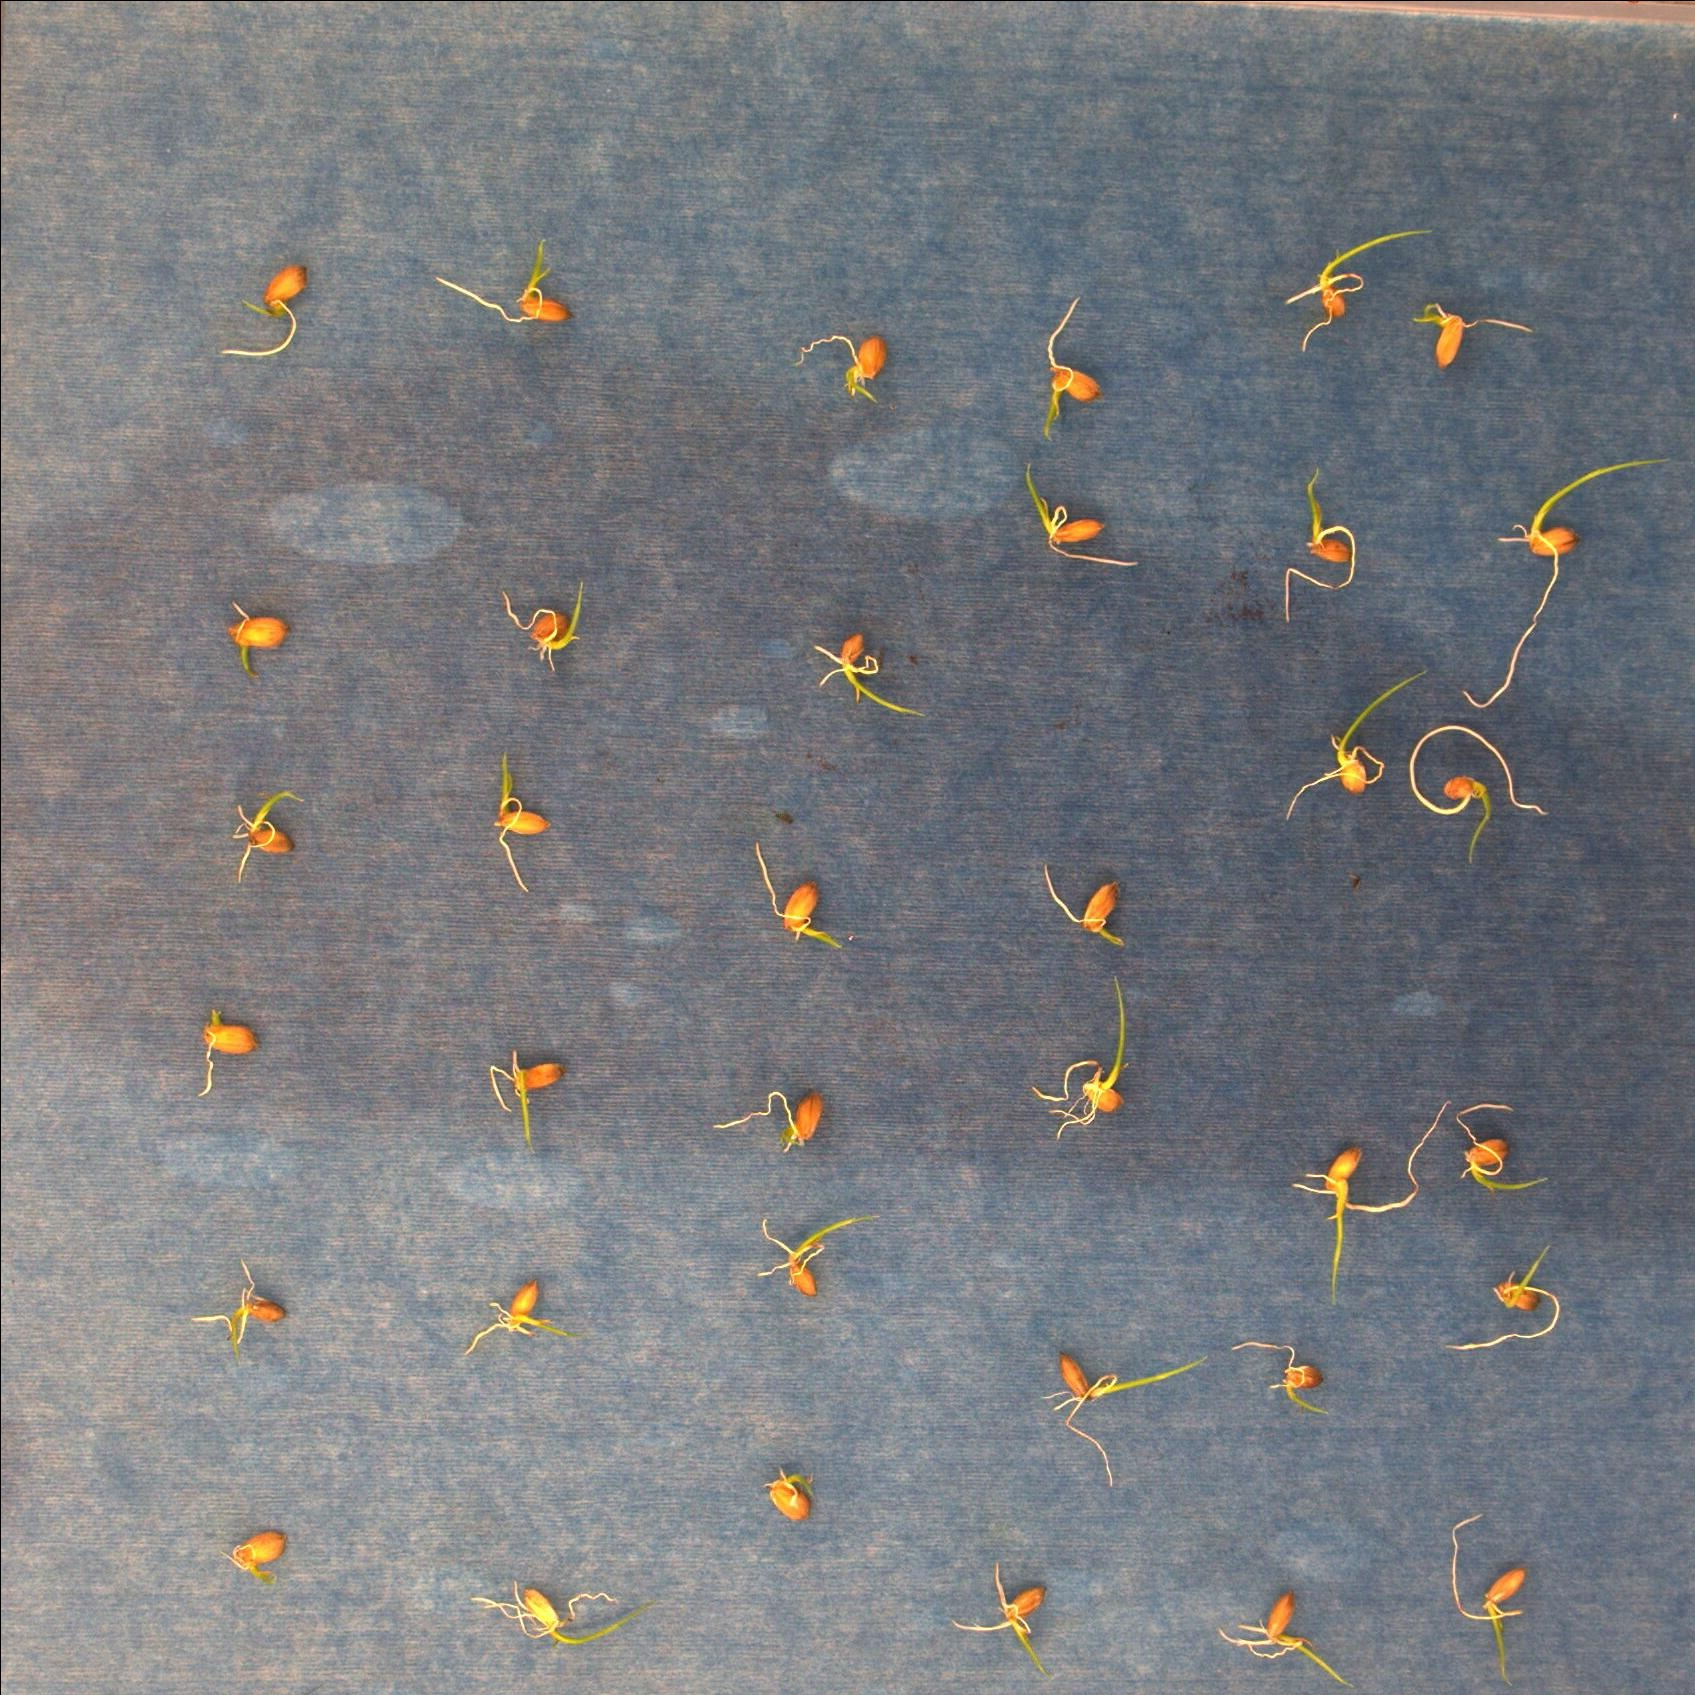not sprout: (199, 1001, 262, 1101), (768, 1464, 816, 1527)
sprout: (1461, 455, 1673, 705), (1291, 1099, 1456, 1307), (1038, 1352, 1208, 1489), (1285, 664, 1428, 821), (1408, 725, 1544, 863), (1301, 228, 1433, 351), (1032, 976, 1127, 1135), (1215, 1589, 1357, 1690), (1451, 1515, 1530, 1689), (1023, 461, 1142, 570), (472, 1580, 657, 1648), (1447, 1243, 1560, 1354), (438, 239, 577, 328), (948, 1560, 1049, 1681), (1285, 466, 1357, 621), (753, 841, 847, 951), (756, 1215, 882, 1298), (459, 1273, 577, 1360), (1042, 295, 1108, 444), (189, 1257, 289, 1357), (813, 632, 927, 719), (1454, 1101, 1552, 1195), (220, 261, 310, 360), (489, 1048, 571, 1156), (1042, 861, 1136, 953), (494, 747, 551, 896), (1416, 300, 1535, 369), (1232, 1341, 1340, 1419), (712, 1087, 826, 1153), (503, 581, 587, 669), (795, 331, 889, 408), (227, 594, 295, 685), (234, 792, 304, 879), (231, 1527, 289, 1593)
